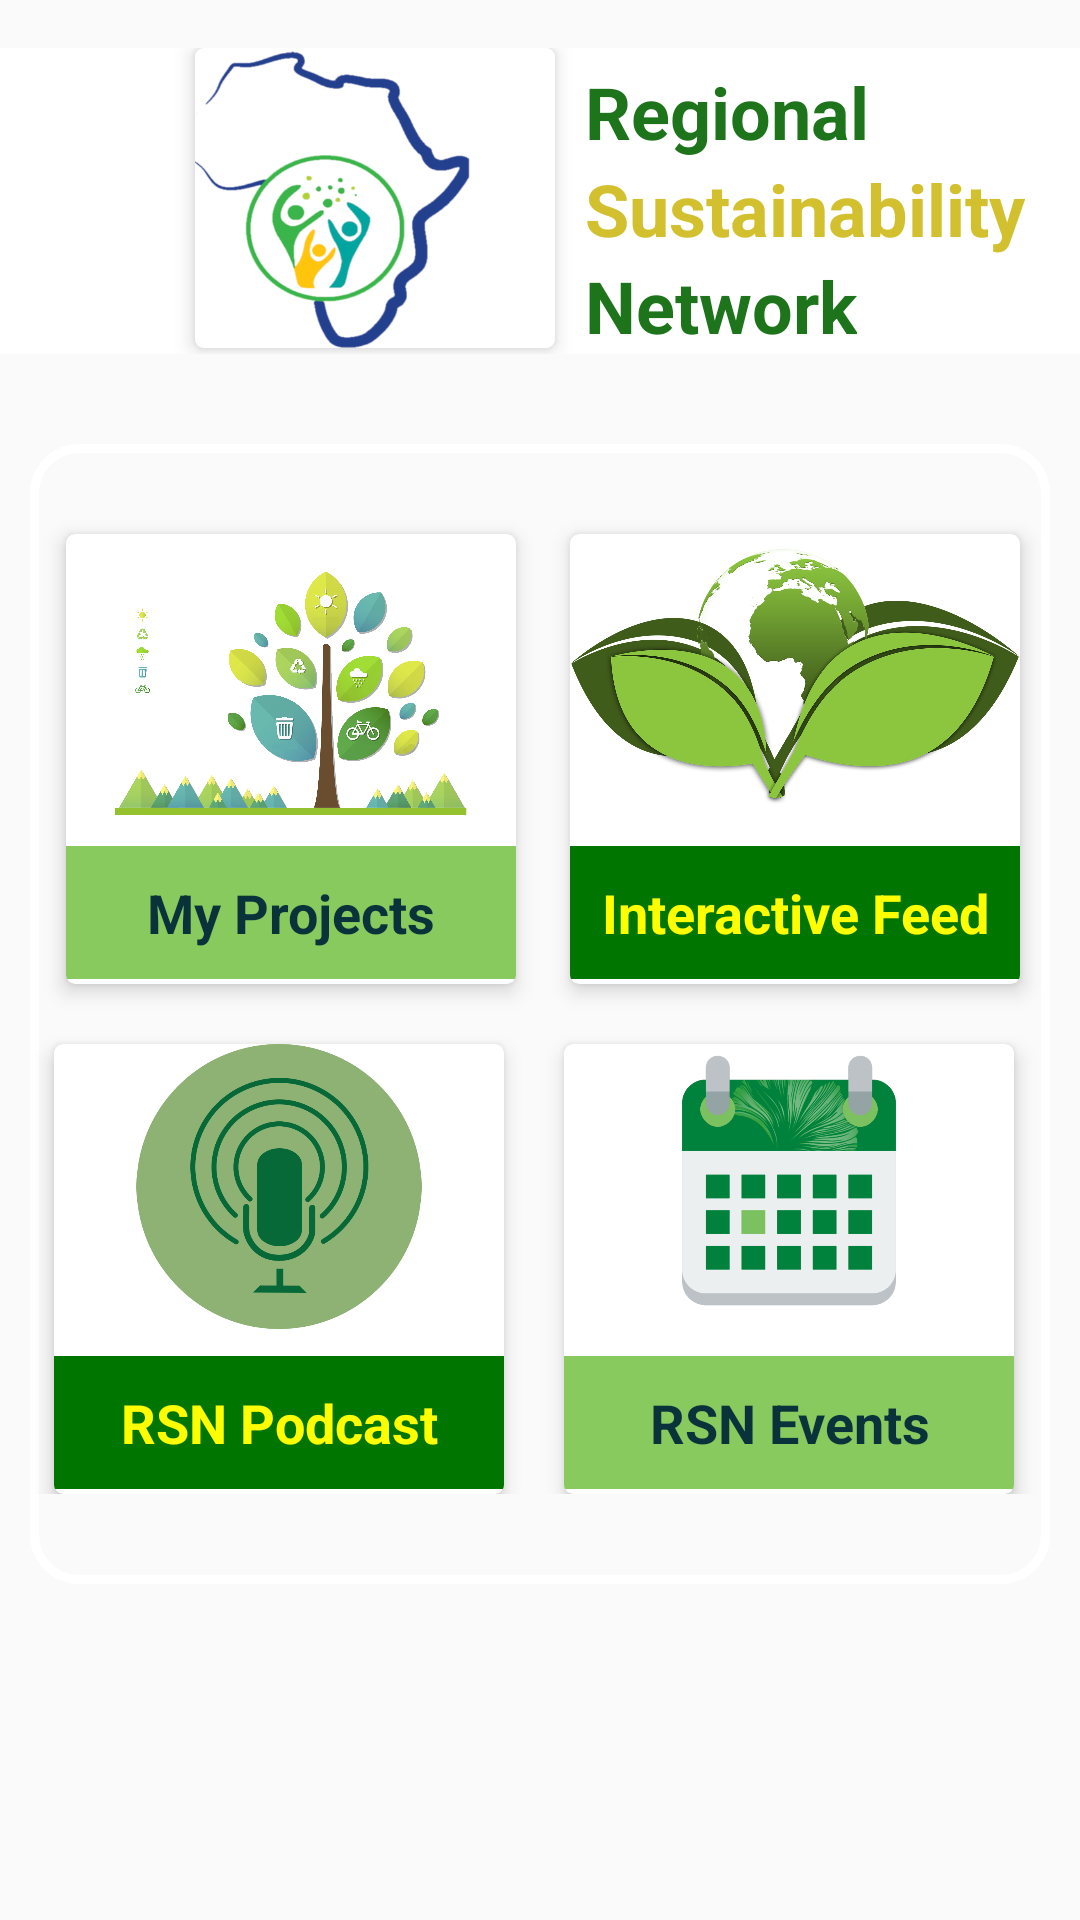

Named icons in this screenshot (1080 x 1920) and their bounding boxes, (x1, y1, x2, y2):
calender: (682, 1056, 896, 1305)
tree info: (115, 571, 467, 815)
